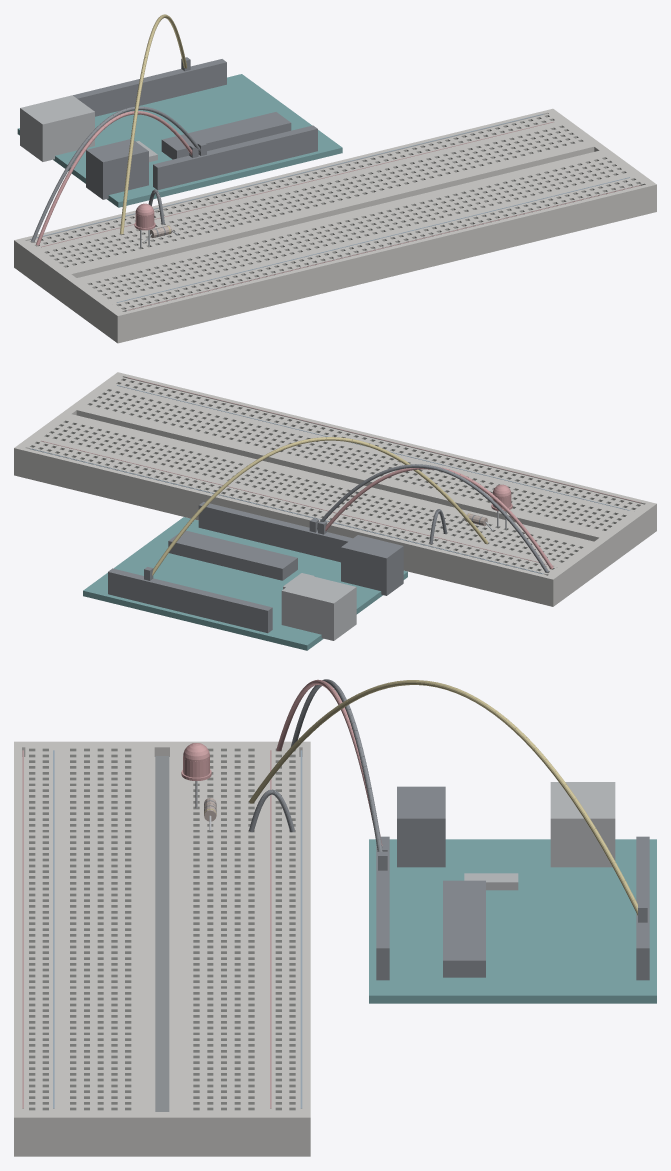
Rendered from step-6.glb.
3 views of the same model, one above another, from view 1: azimuth 30°, elevation 25°; view 2: azimuth 150°, elevation 25°; view 3: azimuth 270°, elevation 25° (orthographic). The views are drawn at different scales.
Parts seen in each view (by area): view 1: breadboard_1__mesh, arduino_uno__mesh, wire_led_sig__mesh, wire_main_gnd__mesh, wire_main_5v__mesh, led_red__mesh; view 2: breadboard_1__mesh, arduino_uno__mesh, wire_led_sig__mesh, wire_main_gnd__mesh, wire_main_5v__mesh, led_red__mesh; view 3: breadboard_1__mesh, arduino_uno__mesh, wire_led_sig__mesh, wire_main_gnd__mesh, led_red__mesh, wire_main_5v__mesh.
Boxes of the visible parts, left/top/right/bottom form: breadboard_1__mesh: left=14, top=108, right=656, bottom=343; arduino_uno__mesh: left=17, top=59, right=342, bottom=207; wire_led_sig__mesh: left=120, top=14, right=190, bottom=234; wire_main_gnd__mesh: left=31, top=106, right=206, bottom=242; wire_main_5v__mesh: left=36, top=111, right=198, bottom=245; led_red__mesh: left=134, top=203, right=155, bottom=248; breadboard_1__mesh: left=14, top=372, right=656, bottom=606; arduino_uno__mesh: left=83, top=502, right=407, bottom=650; wire_led_sig__mesh: left=144, top=437, right=488, bottom=580; wire_main_gnd__mesh: left=309, top=464, right=548, bottom=572; wire_main_5v__mesh: left=318, top=466, right=553, bottom=569; led_red__mesh: left=491, top=484, right=512, bottom=529; breadboard_1__mesh: left=14, top=741, right=310, bottom=1156; arduino_uno__mesh: left=369, top=782, right=656, bottom=1003; wire_led_sig__mesh: left=249, top=680, right=647, bottom=922; wire_main_gnd__mesh: left=291, top=679, right=387, bottom=870; led_red__mesh: left=181, top=743, right=211, bottom=808; wire_main_5v__mesh: left=276, top=679, right=387, bottom=851.
Size of the model in its own units: 0.165 by 0.0463 by 0.1192.
